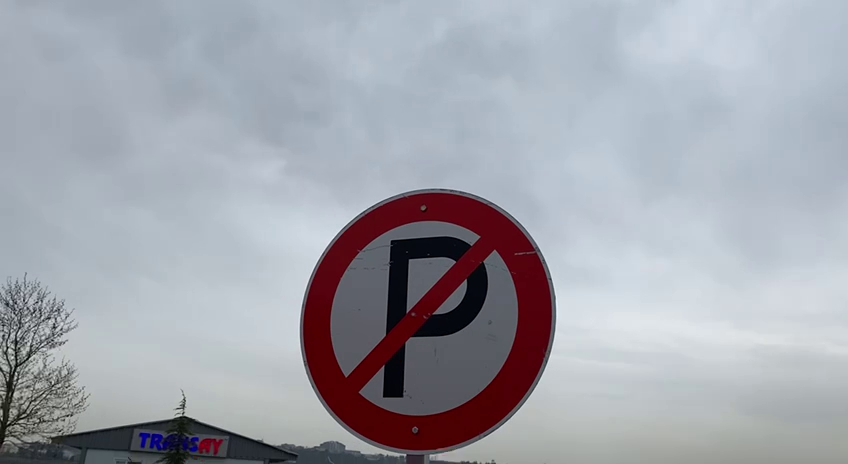noparking: (292, 186, 562, 455)
